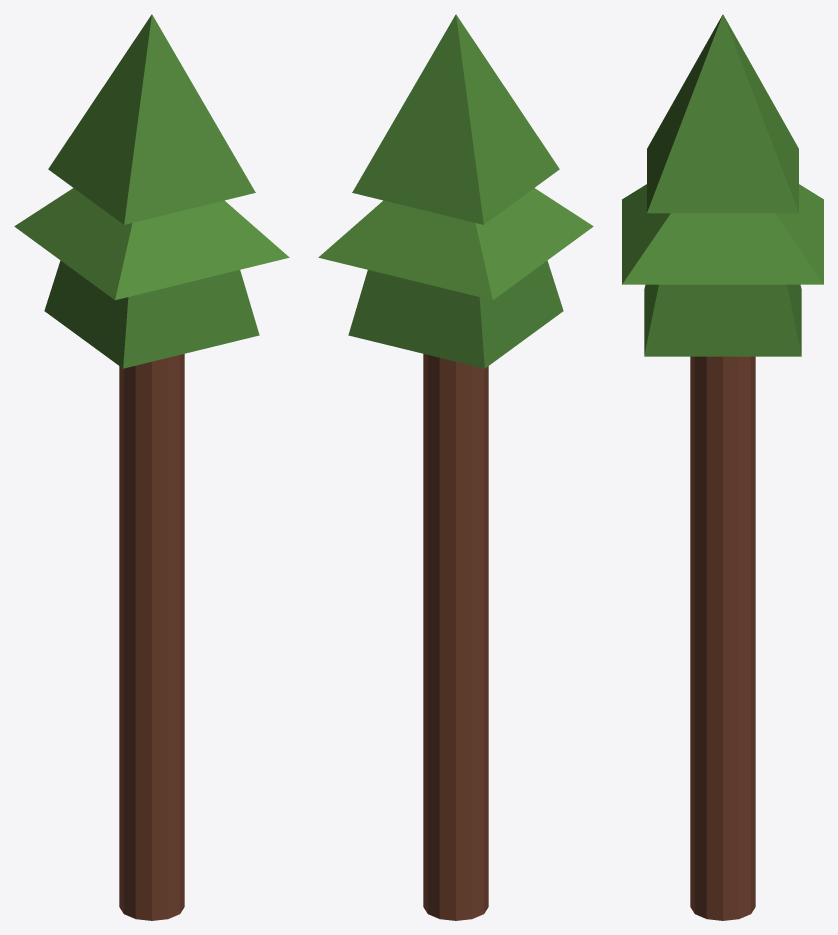
The model's file is Tree_15_summer_vc.fbx.
3 renders of one model, left to right at view 1: azimuth 30°, elevation 25°; view 2: azimuth 150°, elevation 25°; view 3: azimuth 270°, elevation 25°, orthographic.
Parts seen in each view (by area): view 1: Tree_15_summer_vc; view 2: Tree_15_summer_vc; view 3: Tree_15_summer_vc.
Part boxes in pixels (bbox=[...]): Tree_15_summer_vc: bbox=[14, 14, 289, 920]; Tree_15_summer_vc: bbox=[318, 14, 593, 920]; Tree_15_summer_vc: bbox=[622, 14, 823, 920].
Size of the model in its own units: 68.73 by 336 by 68.73.
